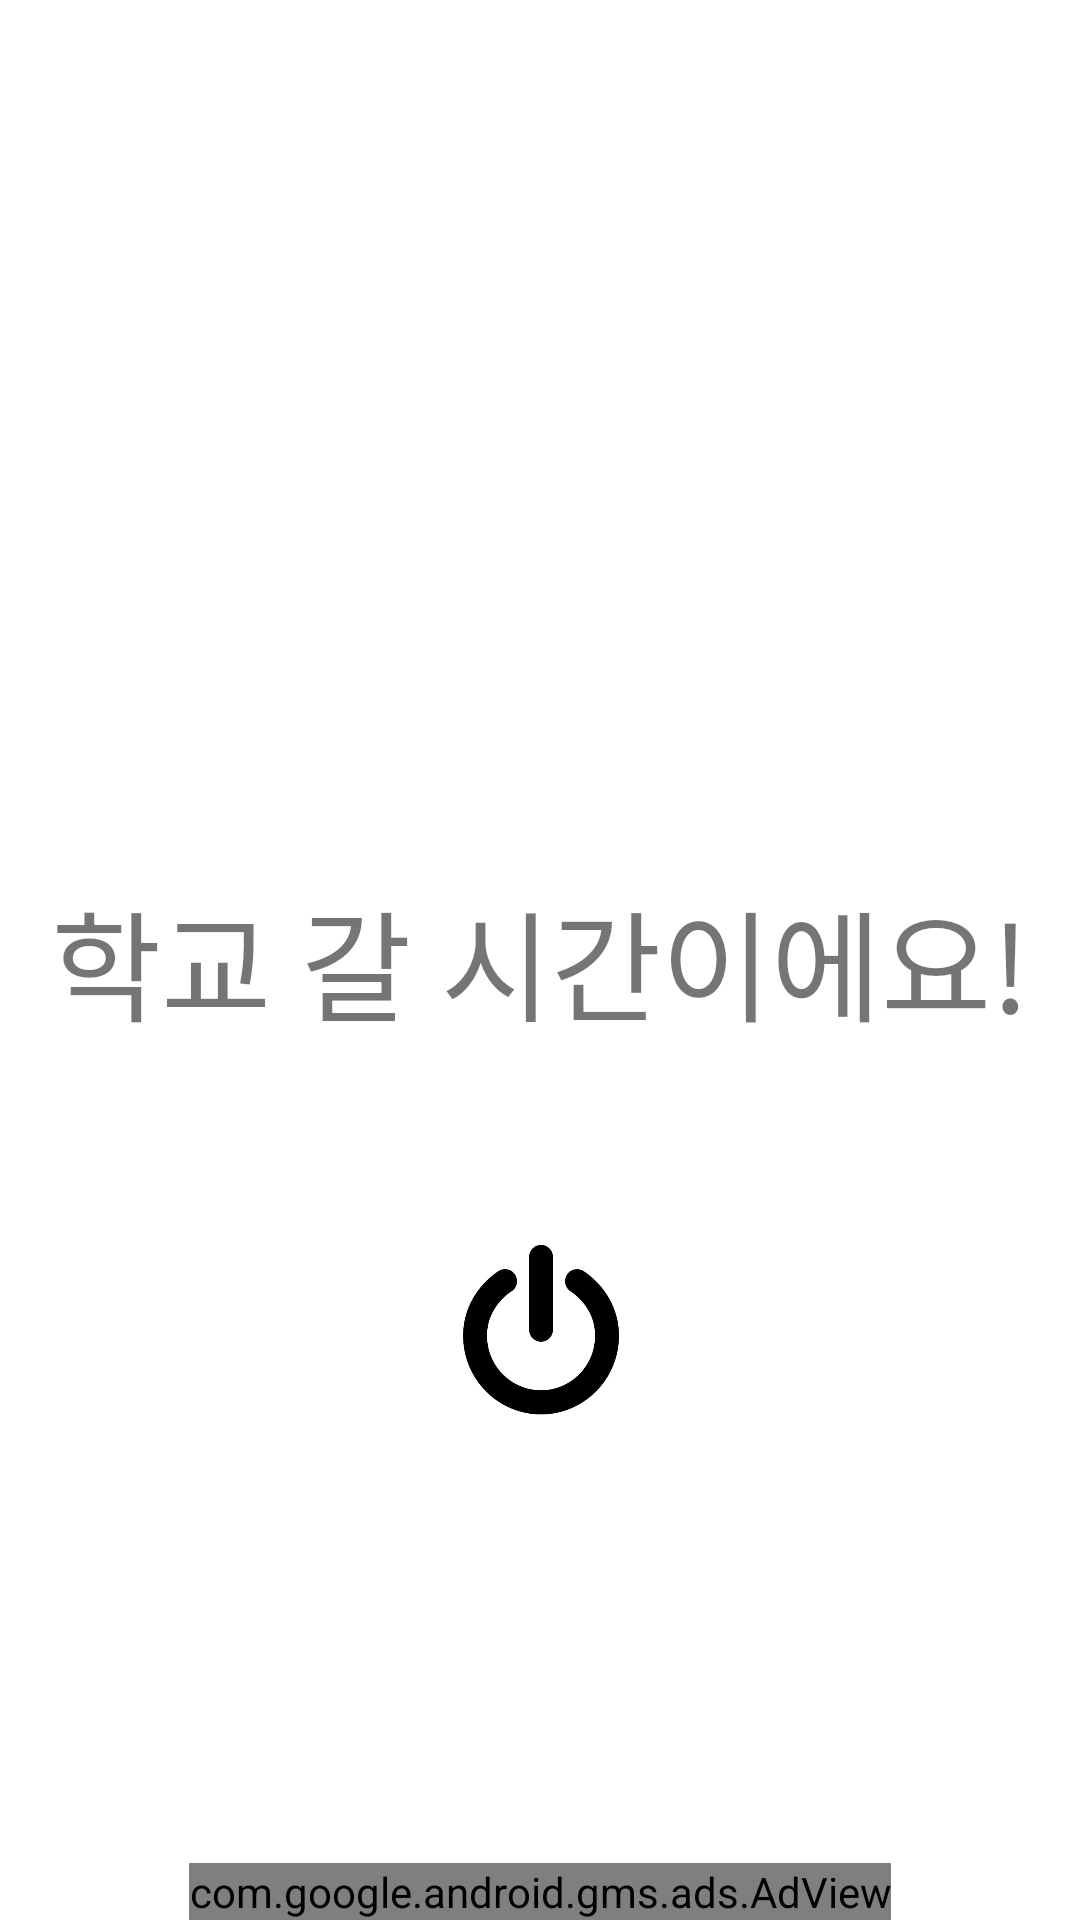

Where to tap for icons on this 1080*1920 app screen, as point (x, y):
off: point (541, 1330)
